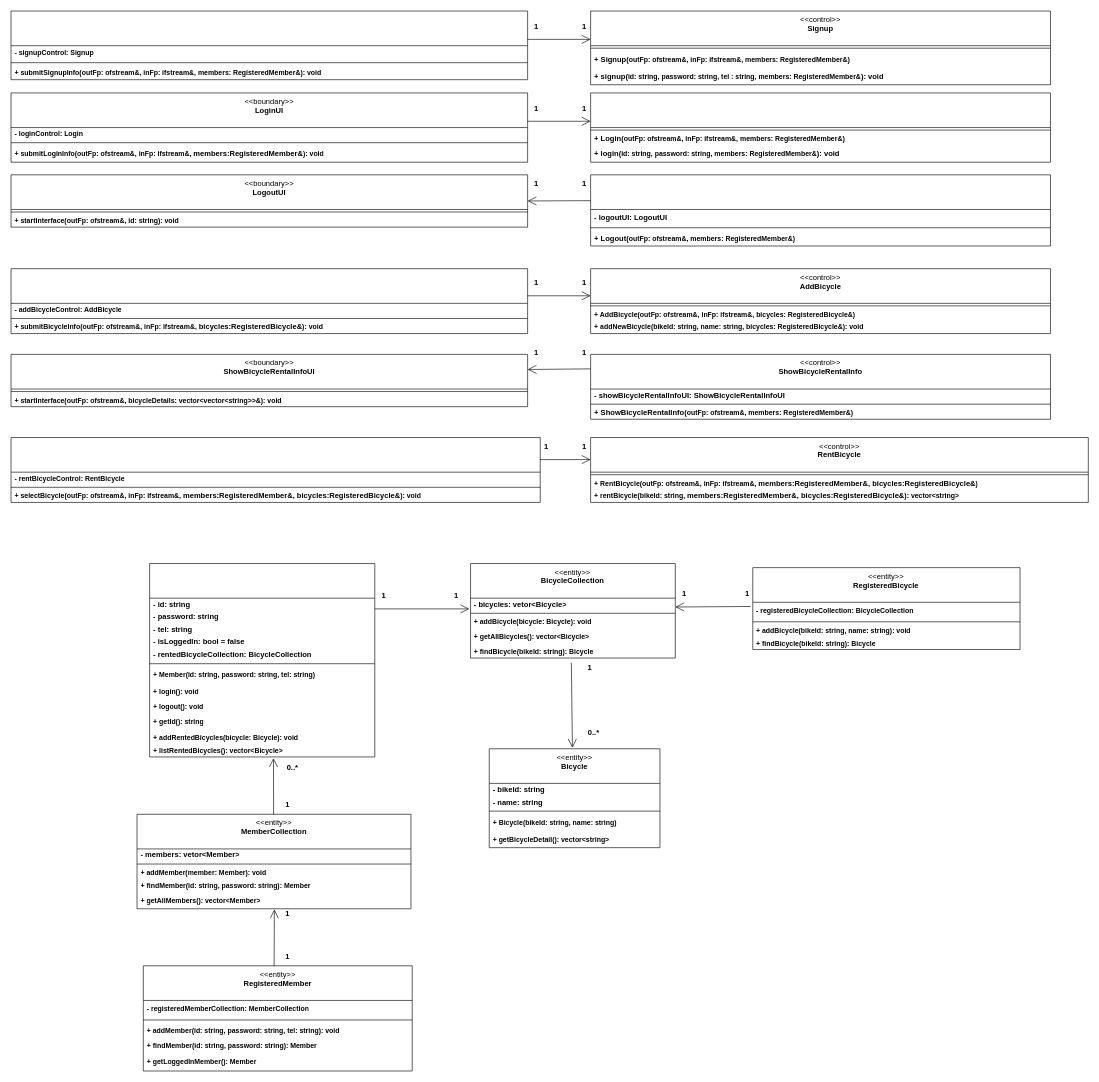
Image size: 1099x1082. Some labels were removed from this diagram. Here are the shapes that lost their labels. From the top down, the box of each, then its label:
(10, 10, 528, 80): <<boundary>> SignupUI
(590, 92, 1051, 162): <<control>> Login
(590, 174, 1051, 246): <<control>> Logout
(10, 268, 528, 334): <<boundary>> AddBicycleUI
(10, 437, 540, 502): <<boundary>> RentBicycleUI
(149, 563, 375, 757): <<entity>> Member
